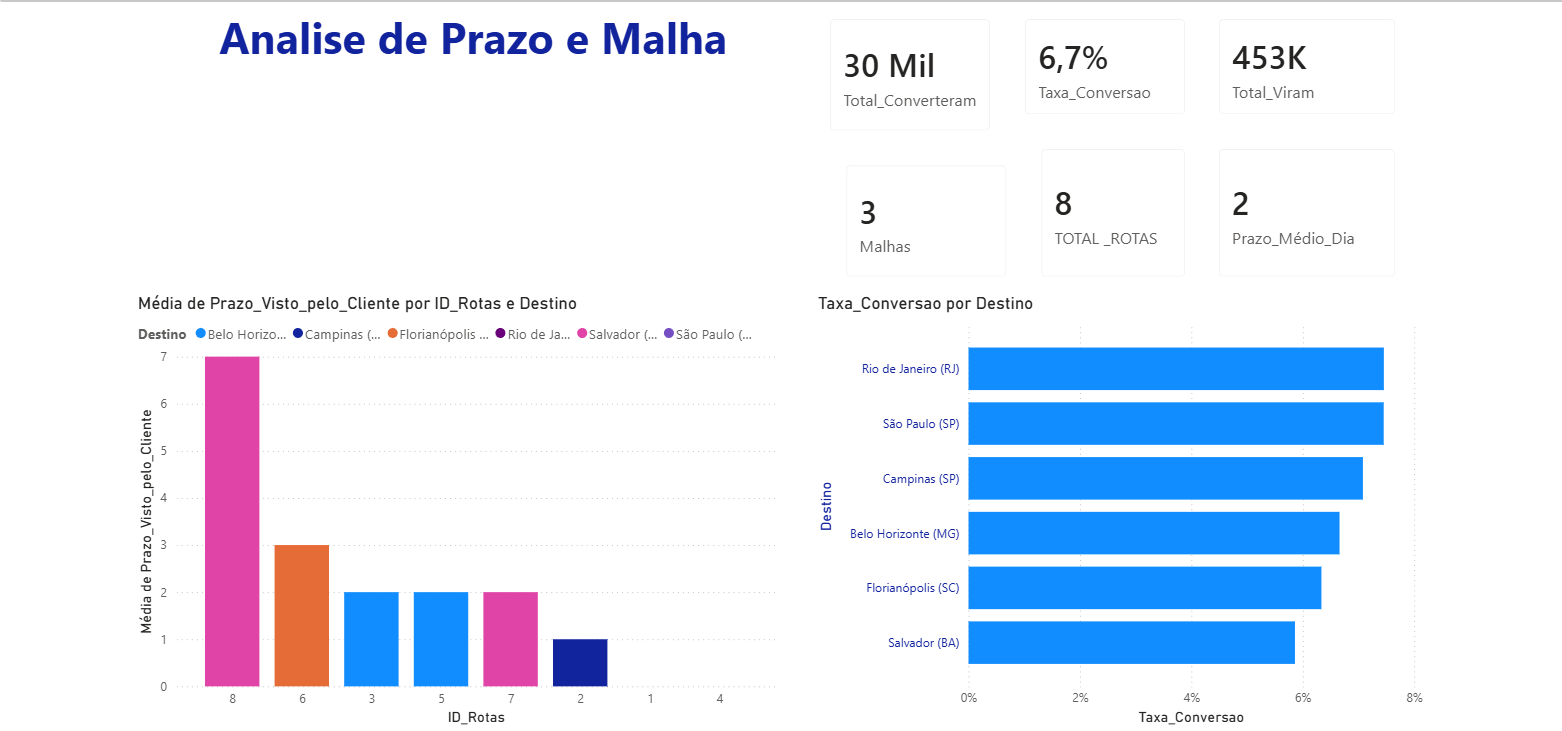

This screenshot's page, from the dashboard's own definition file:
{"tool":"powerbi","page":{"name":"Página 1","canvas":[1280,720],"ordinal":0},"visuals":[{"type":"cardVisual","fields":{"Data":["Base.Total_Converteram"]},"box":[672,0,192,144],"z":0},{"type":"cardVisual","fields":{"Data":["Base.Taxa_Conversao"]},"box":[864,0,192,128],"z":1000},{"type":"cardVisual","fields":{"Data":["Base.Total_Viram"]},"box":[1056,0,208,128],"z":2000},{"type":"cardVisual","fields":{"Data":["Base.Prazo_Medio"]},"box":[1056,128,208,160],"z":3000},{"type":"columnChart","fields":{"Category":["TabelaRoteiros.ID_Rotas"],"Y":["Avg(Base.Prazo_Visto_pelo_Cliente)"],"Series":["TabelaRoteiros.Destino"]},"box":[0,288,640,432],"z":4000},{"type":"barChart","fields":{"Y":["Base.Taxa_Conversao"],"Category":["Base.Destino"]},"box":[672,288,608,432],"z":5000},{"type":"textbox","box":[0,0,672,96],"z":5001},{"type":"cardVisual","fields":{"Data":["CountNonNull(TabelaRoteiros.ID_Rotas)"]},"box":[880,128,176,160],"z":5002},{"type":"cardVisual","fields":{"Data":["Count(TabelaRoteiros.Tipo_de_Malha)"]},"box":[688,144,192,144],"z":5003}]}

Visuals, with their boxes on the page's 1280x720 design canvas (x1, y1, x2, y2). These are canvas units, not pixel positions in the 1562x731 screenshot, which may show the page scaled, cropped or inside an application window:
cardVisual - Base.Total_Converteram: [left=672, top=0, right=864, bottom=144]
cardVisual - Base.Taxa_Conversao: [left=864, top=0, right=1056, bottom=128]
cardVisual - Base.Total_Viram: [left=1056, top=0, right=1264, bottom=128]
cardVisual - Base.Prazo_Medio: [left=1056, top=128, right=1264, bottom=288]
columnChart - TabelaRoteiros.ID_Rotas x Avg(Base.Prazo_Visto_pelo_Cliente): [left=0, top=288, right=640, bottom=720]
barChart - Base.Taxa_Conversao x Base.Destino: [left=672, top=288, right=1280, bottom=720]
textbox: [left=0, top=0, right=672, bottom=96]
cardVisual - CountNonNull(TabelaRoteiros.ID_Rotas): [left=880, top=128, right=1056, bottom=288]
cardVisual - Count(TabelaRoteiros.Tipo_de_Malha): [left=688, top=144, right=880, bottom=288]
